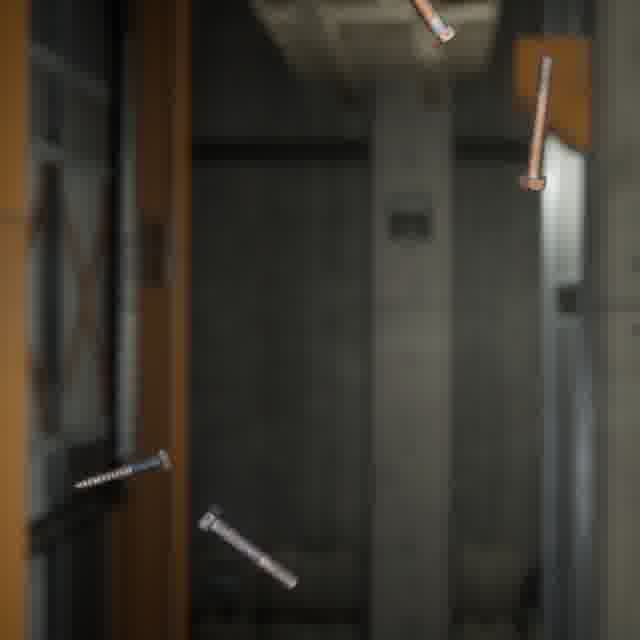bolt: (191, 499, 303, 594), (514, 50, 558, 194), (69, 444, 174, 493), (404, 0, 462, 52)
